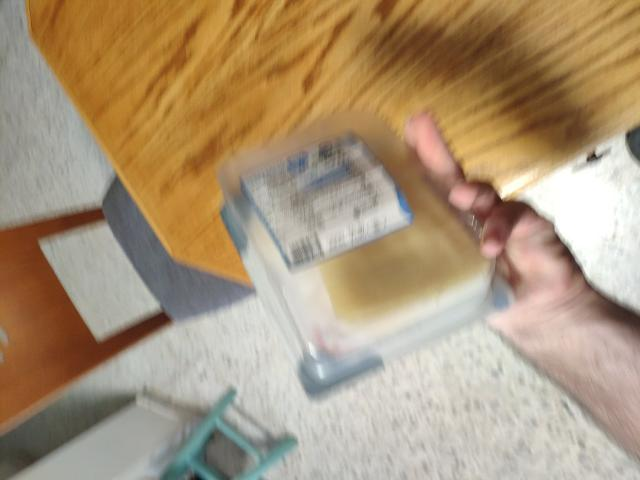cheese: (196, 141, 504, 379)
